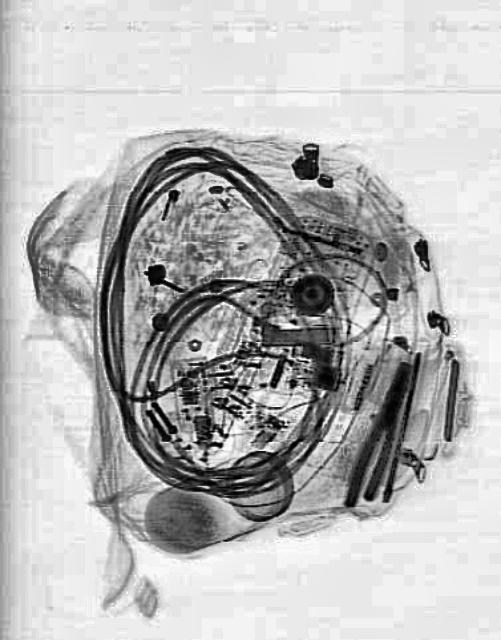Pliers: (342, 353, 416, 512)
